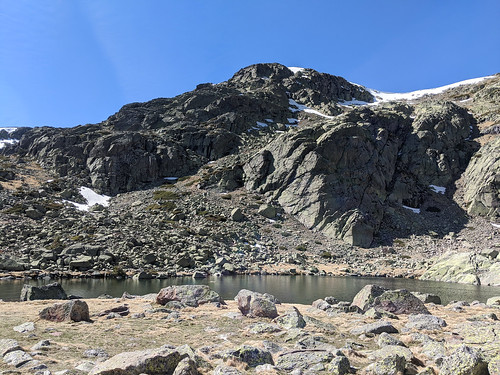mountain: (94, 46, 392, 128)
river: (1, 266, 500, 306)
sky: (2, 1, 500, 110)
